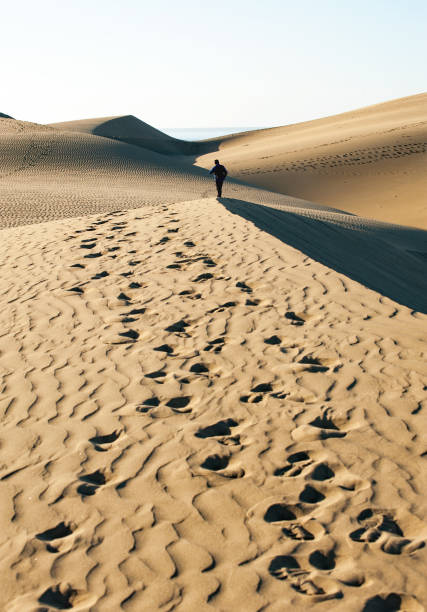human_footprint: (257, 450, 363, 600), (264, 449, 365, 594), (248, 487, 345, 601), (281, 341, 345, 440), (264, 325, 342, 402), (268, 142, 426, 175), (137, 308, 203, 374), (273, 450, 369, 495), (136, 344, 192, 417), (248, 479, 329, 526), (193, 272, 237, 353), (349, 508, 424, 554), (268, 555, 342, 600), (194, 418, 244, 478), (262, 501, 324, 540), (268, 555, 322, 594), (292, 407, 356, 439), (108, 291, 144, 343), (283, 343, 342, 373), (273, 451, 334, 480), (350, 508, 402, 541), (76, 218, 118, 258), (96, 219, 132, 263), (38, 582, 95, 609), (177, 351, 219, 384), (286, 376, 329, 405), (35, 521, 75, 552), (361, 592, 424, 611), (195, 418, 239, 445), (183, 351, 219, 383), (108, 308, 140, 344), (136, 395, 191, 415), (200, 453, 244, 478), (309, 408, 345, 438), (166, 249, 216, 270), (274, 451, 312, 477), (333, 558, 366, 587), (263, 501, 308, 522), (240, 382, 286, 402), (282, 518, 323, 540), (166, 251, 216, 269), (166, 250, 211, 269), (195, 418, 237, 438), (77, 469, 106, 496), (121, 308, 146, 339), (36, 521, 74, 541), (75, 220, 109, 241), (153, 344, 176, 375), (89, 430, 121, 452), (265, 336, 297, 357), (240, 382, 272, 402), (235, 280, 260, 305), (308, 548, 335, 570), (175, 252, 216, 266), (114, 233, 138, 256), (298, 355, 330, 372), (126, 271, 145, 299), (282, 523, 313, 540), (155, 224, 179, 245), (201, 453, 229, 471), (64, 227, 96, 242), (80, 239, 105, 258), (299, 484, 324, 503), (309, 462, 334, 480), (158, 213, 179, 233), (165, 396, 191, 412), (165, 319, 189, 336), (91, 212, 113, 230), (108, 230, 128, 249), (137, 396, 159, 412), (208, 301, 236, 313), (203, 336, 224, 352), (144, 368, 166, 383), (117, 286, 134, 305), (287, 450, 310, 464), (117, 329, 139, 343), (284, 311, 305, 325), (217, 434, 240, 445), (80, 231, 101, 243), (105, 209, 124, 222), (161, 205, 177, 220), (212, 301, 236, 311), (178, 289, 201, 299), (80, 236, 97, 249), (153, 344, 173, 355), (190, 362, 208, 374), (166, 212, 180, 226), (176, 374, 191, 387), (264, 334, 281, 345), (193, 272, 213, 281), (80, 237, 96, 248), (236, 281, 252, 292), (117, 292, 130, 304), (124, 308, 145, 315), (92, 270, 108, 279), (156, 235, 170, 245), (121, 316, 138, 324), (75, 275, 88, 285), (110, 222, 126, 230), (202, 257, 216, 266), (76, 226, 97, 232), (68, 286, 83, 294), (84, 252, 102, 258), (81, 225, 96, 232), (74, 228, 94, 233), (245, 298, 259, 305), (94, 218, 108, 225), (129, 281, 142, 288), (107, 245, 120, 252), (64, 234, 77, 241), (106, 246, 119, 253), (166, 263, 180, 269), (157, 223, 165, 233), (120, 271, 133, 277), (128, 260, 141, 266), (184, 240, 195, 247), (134, 215, 149, 220), (70, 263, 84, 268), (125, 231, 136, 236), (157, 223, 165, 229), (128, 249, 137, 254), (167, 228, 178, 232), (168, 218, 179, 222), (104, 235, 114, 239), (239, 296, 245, 300)
